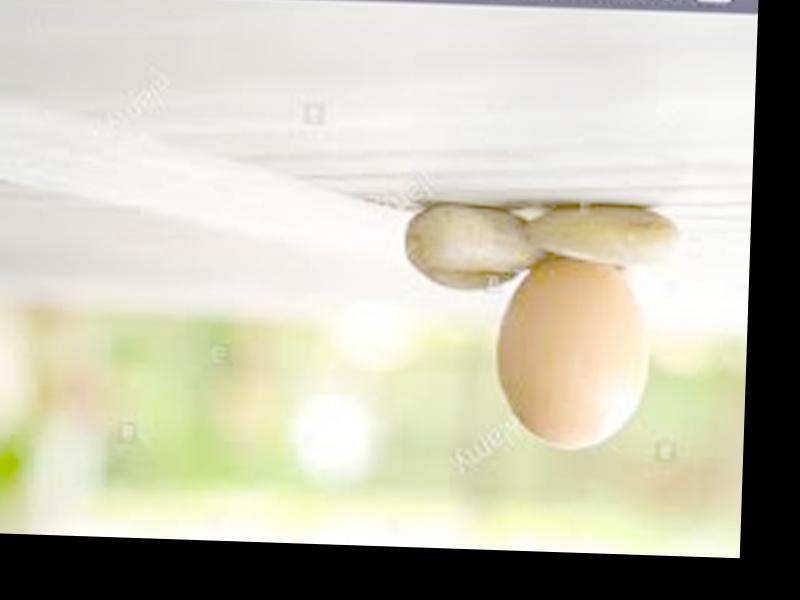Eggs: (492, 255, 654, 448)
